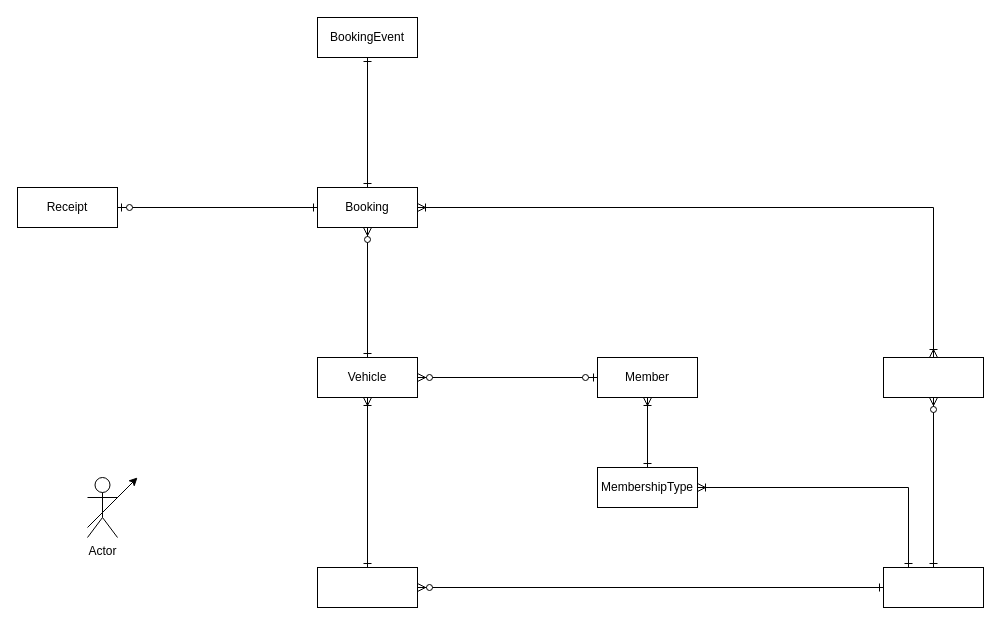
Image size: 1001x625. Some labels were removed from this diagram. The box of each missing label's shape, as (x1, y1, x2, y2) in pixels:
Garage: (882, 566, 984, 608)
Parkinglot: (882, 356, 984, 398)
VehicleType: (316, 566, 418, 608)
